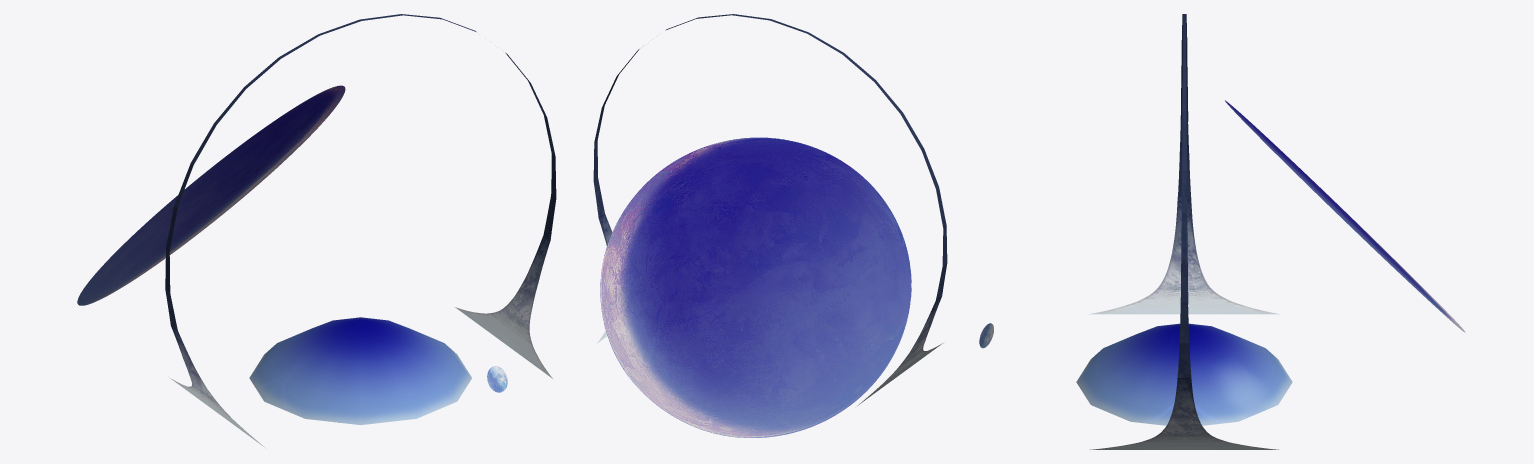
Rendered from mp_clear_afternoon.obj.
3 renders of one model, left to right at view 1: azimuth 30°, elevation 25°; view 2: azimuth 150°, elevation 25°; view 3: azimuth 270°, elevation 25°, orthographic. The views are drawn at different scales.
Parts seen in each view (by area): view 1: _00_sky, _14_threshold, _20_ring; view 2: _14_threshold, _20_ring; view 3: _00_sky, _20_ring, _14_threshold.
Part boxes in pixels (bbox=[...]): _00_sky: bbox=[249, 317, 471, 425]; _14_threshold: bbox=[77, 85, 345, 305]; _20_ring: bbox=[165, 14, 556, 448]; _14_threshold: bbox=[600, 137, 911, 437]; _20_ring: bbox=[593, 14, 947, 405]; _00_sky: bbox=[1076, 323, 1292, 425]; _20_ring: bbox=[1089, 14, 1279, 449]; _14_threshold: bbox=[1225, 100, 1465, 332].
Bounding box in the file's own units: 1.27e+07 × 9829312 × 1.39e+07.
